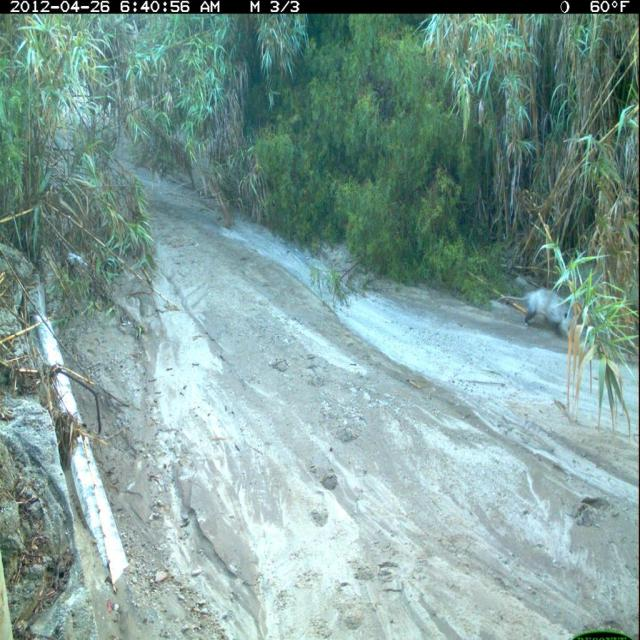opossum: (492, 283, 583, 342)
